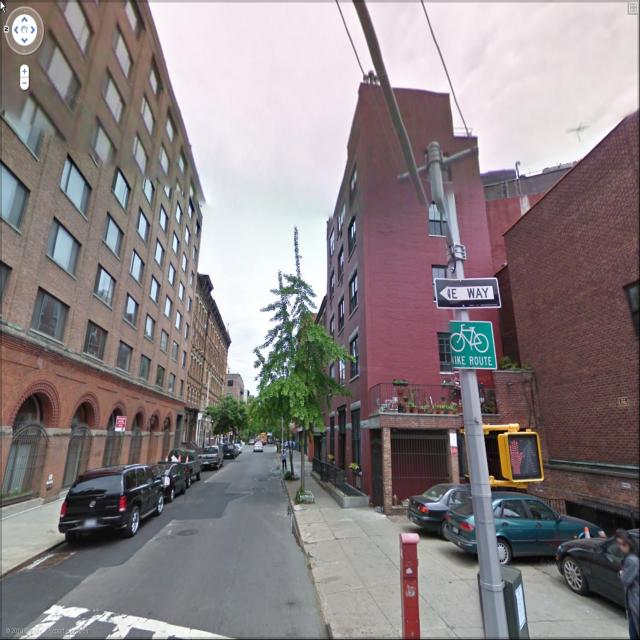b_1: (0, 4, 185, 458), (328, 91, 487, 475), (505, 140, 640, 493), (185, 282, 233, 421)
b_2: (276, 288, 333, 478)
